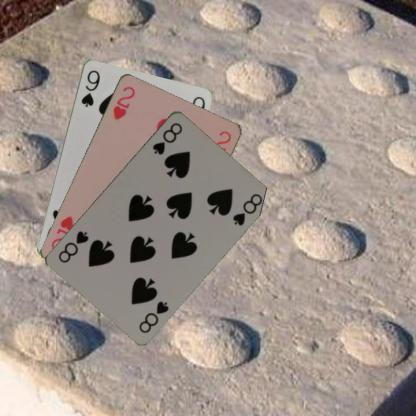2h: (110, 84, 136, 122)
8s: (150, 120, 184, 156), (136, 298, 170, 334)
9s: (78, 67, 101, 108)
